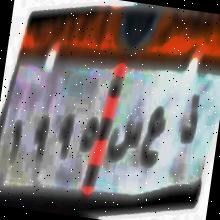1: (1, 111, 28, 176)
5: (76, 104, 102, 162)
9: (28, 110, 58, 167), (54, 111, 76, 164)
ain: (138, 105, 170, 180)
seen: (108, 112, 144, 170)
zaal: (176, 90, 204, 148)
